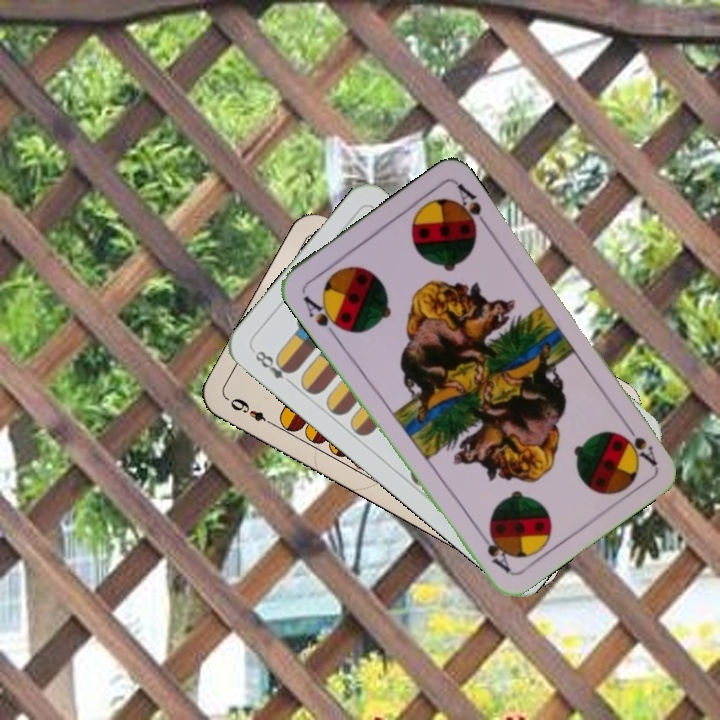E8: (251, 346, 297, 389)
E9: (226, 394, 278, 429)
SA: (298, 291, 346, 340), (616, 417, 660, 469)
